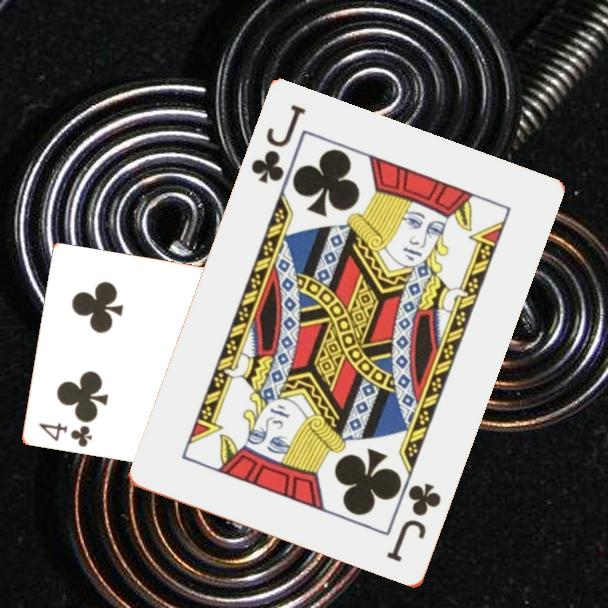c04: (35, 420, 95, 450)
c11: (383, 480, 445, 566), (247, 101, 309, 187)
